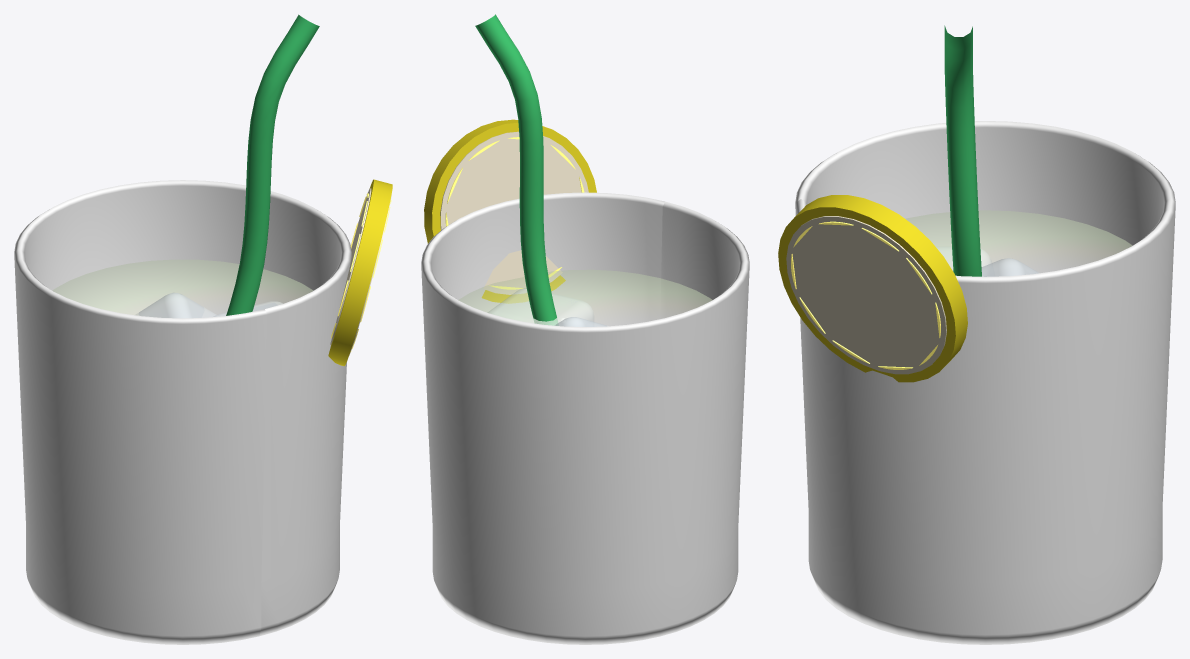
The model's file is sodachanh.glb.
The picture shows the model from 3 angles, left to right: view 1: azimuth 30°, elevation 25°; view 2: azimuth 150°, elevation 25°; view 3: azimuth 270°, elevation 25°; orthographic projection. The views are drawn at different scales.
Visible parts, largest first — view 1: glass, liquid, straw, garnish (×2), ice; view 2: glass, garnish (×3), liquid, straw, ice; view 3: glass, garnish (×3), liquid, straw, ice.
Part boxes in pixels (<box>): glass: <box>14,180,351,644</box>; liquid: <box>52,260,312,317</box>; straw: <box>226,14,319,315</box>; garnish (×2): <box>328,179,392,366</box>; ice: <box>136,292,282,318</box>; glass: <box>421,192,749,644</box>; garnish (×3): <box>424,119,596,303</box>; liquid: <box>459,270,711,326</box>; straw: <box>475,14,557,325</box>; ice: <box>488,288,607,326</box>; glass: <box>795,121,1175,644</box>; garnish (×3): <box>778,195,967,382</box>; liquid: <box>906,210,1131,276</box>; straw: <box>944,25,981,276</box>; ice: <box>936,247,1038,276</box>.
Bounding box in the file's own units: 0.0965 × 0.1537 × 0.0899.
